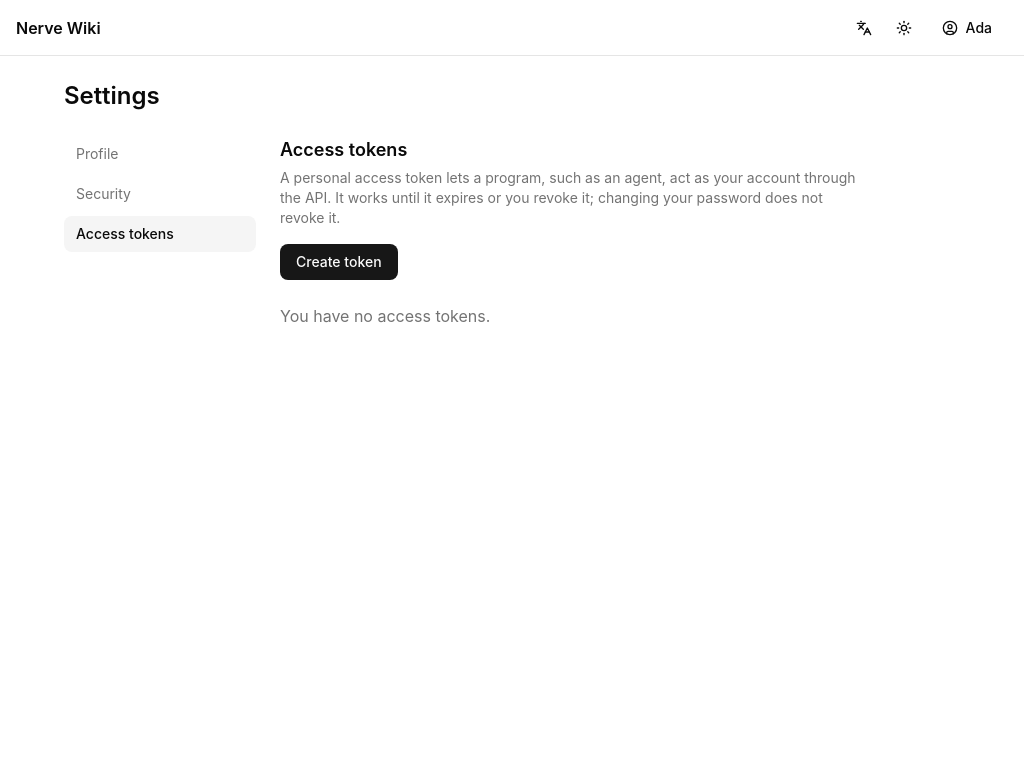
a wrong password shows under it, and nothing is created
The image size is (1024, 768).
Step 1. Click the button "Create token" → (339, 262), box [280,244,398,280]
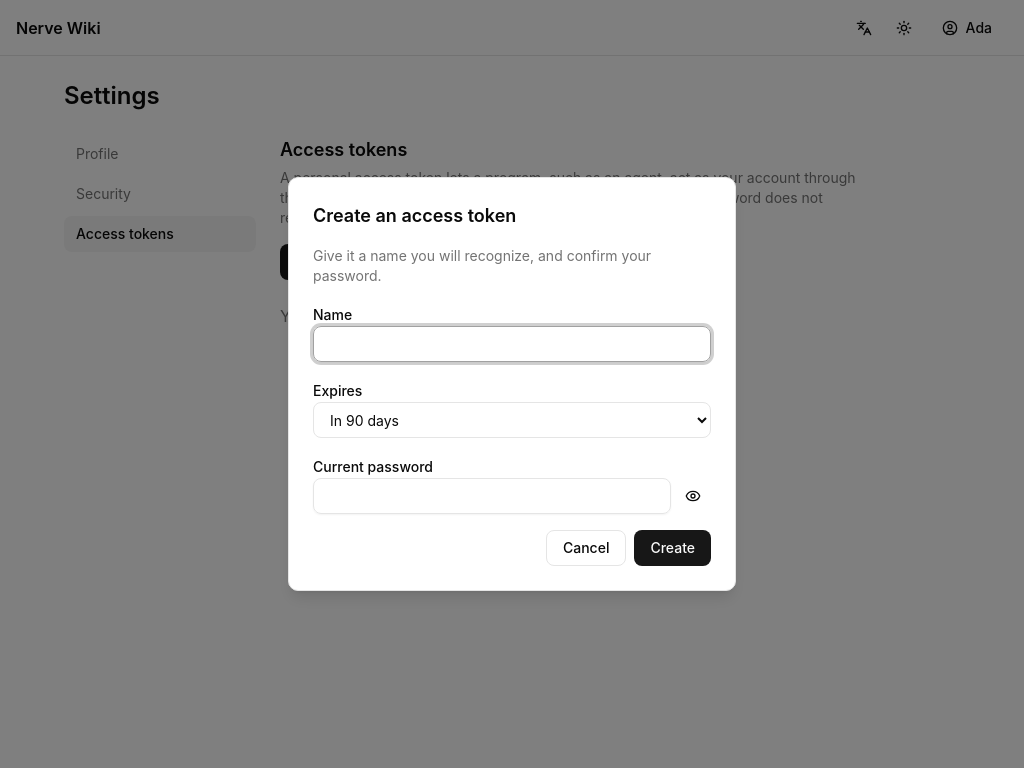
Step 2. Type "CI" into the field labelled "Name" → (512, 344), box [313,326,711,362]
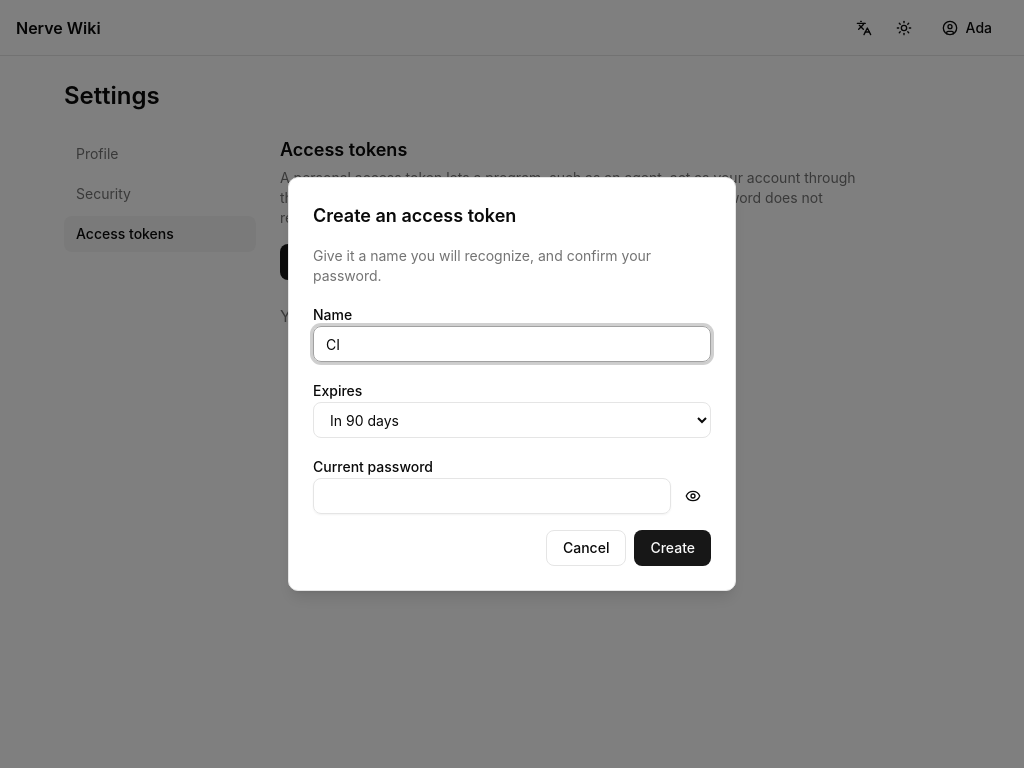
Step 3. Type "Wr0ng-password" into the password field labelled "Current password" → (492, 496), box [313,478,671,514]
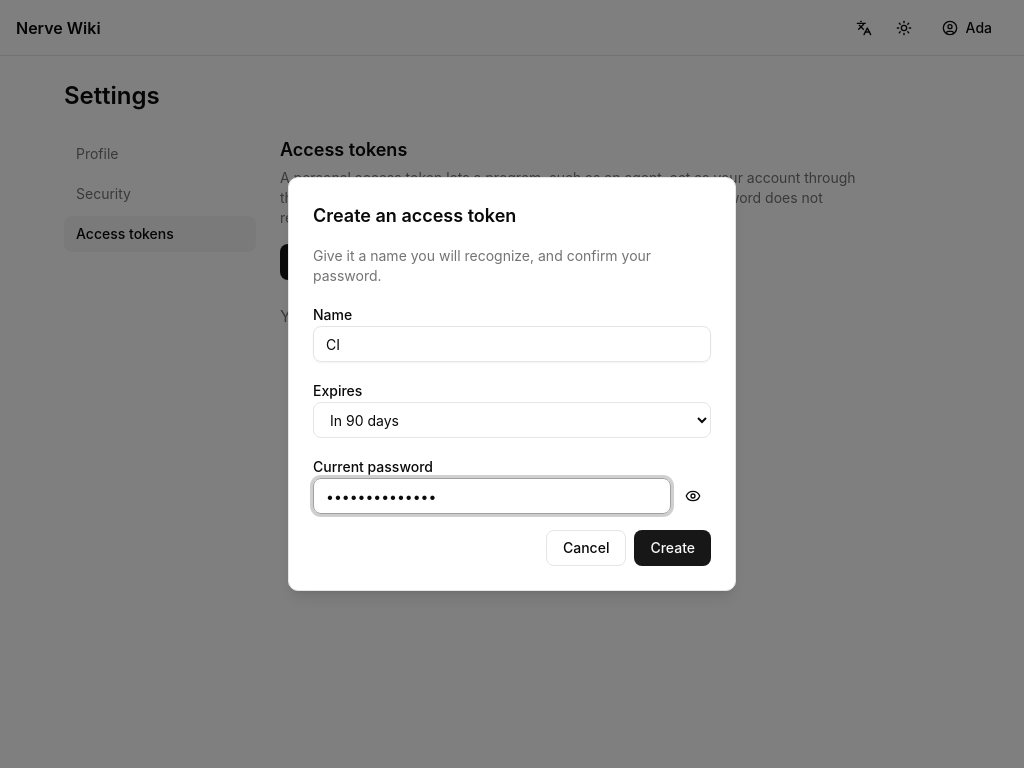
Step 4. Click the button "Create" → (673, 548), box [634,530,711,566]
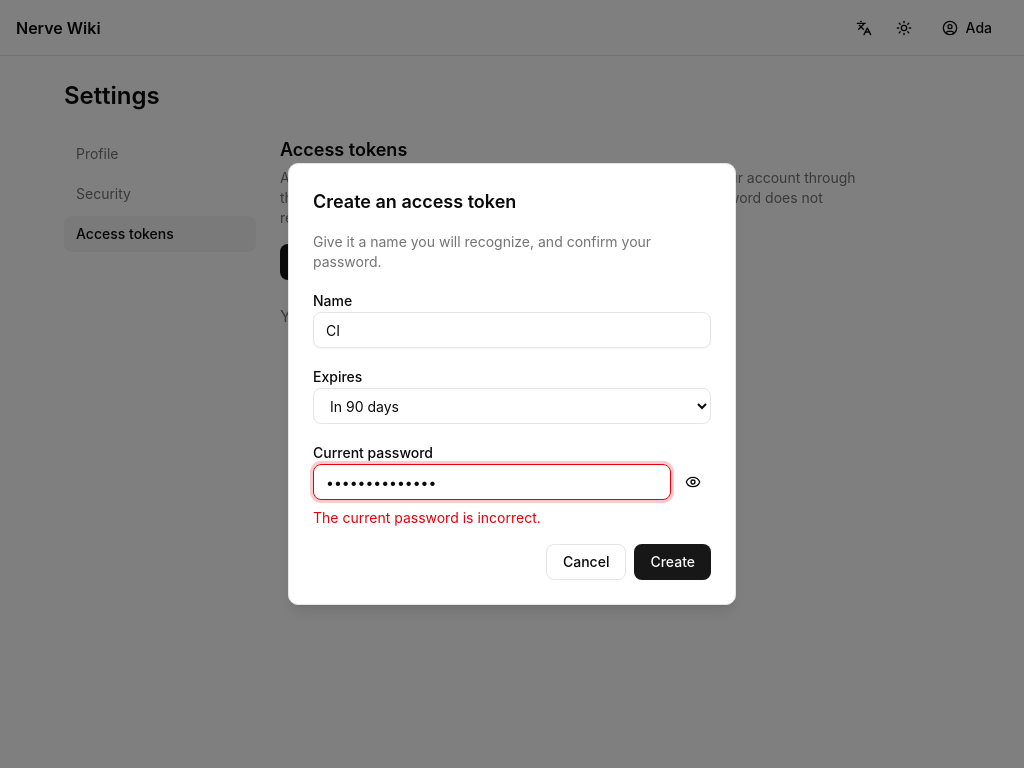
Expected: the text "You have no access tokens." is shown, [280,306,490,326]
Expected: the text "The current password is incorrect." is shown, [313,509,541,526]
